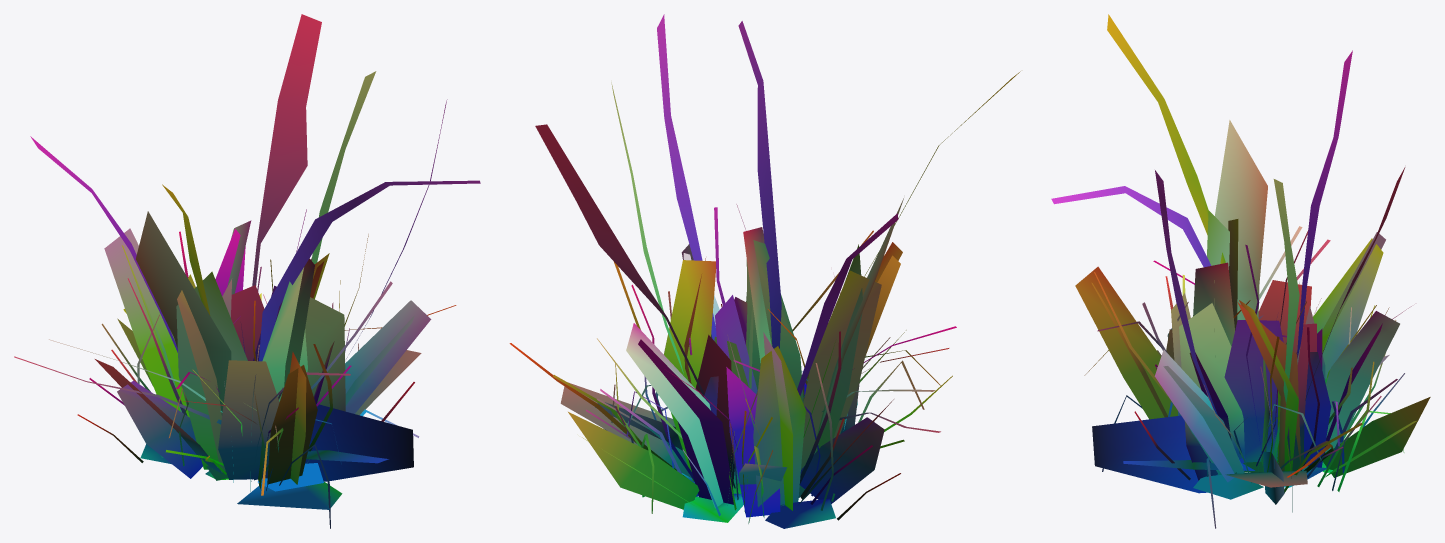
The model's file is uddmcgbia_VarH_LOD0.fbx.
3 views of the same model, side by side, from view 1: azimuth 30°, elevation 25°; view 2: azimuth 150°, elevation 25°; view 3: azimuth 270°, elevation 25° (orthographic). The views are drawn at different scales.
Visible parts, largest first — view 1: _a5fc_VarH_LOD2; view 2: _a5fc_VarH_LOD2; view 3: _a5fc_VarH_LOD2.
Boxes of the visible parts, x1,y1,x2,y2 form: _a5fc_VarH_LOD2: [14, 14, 480, 528]; _a5fc_VarH_LOD2: [509, 14, 1020, 528]; _a5fc_VarH_LOD2: [1051, 14, 1430, 528].
Size of the model in its own units: 41.55 by 36.86 by 32.82.
